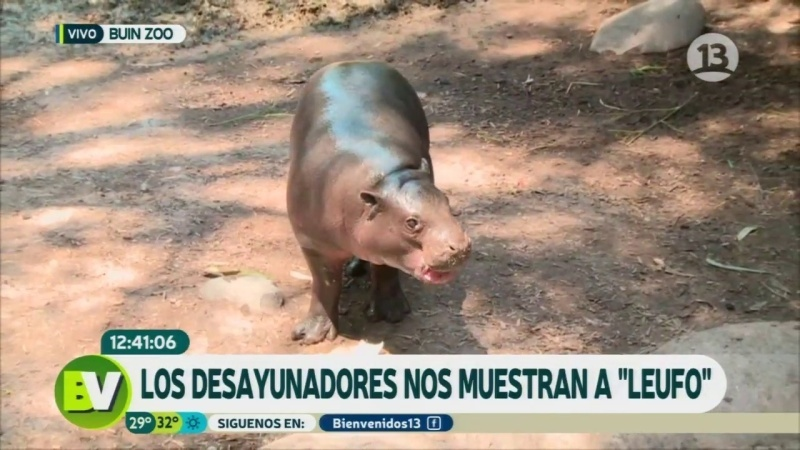hipopotamo: (265, 60, 502, 346)
